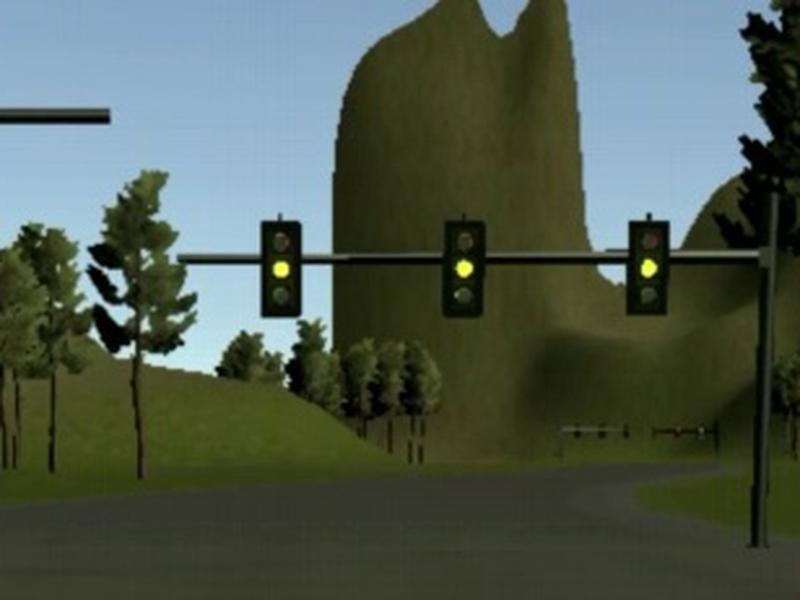Yellow: (626, 219, 670, 316), (440, 222, 485, 315), (260, 219, 302, 317)
